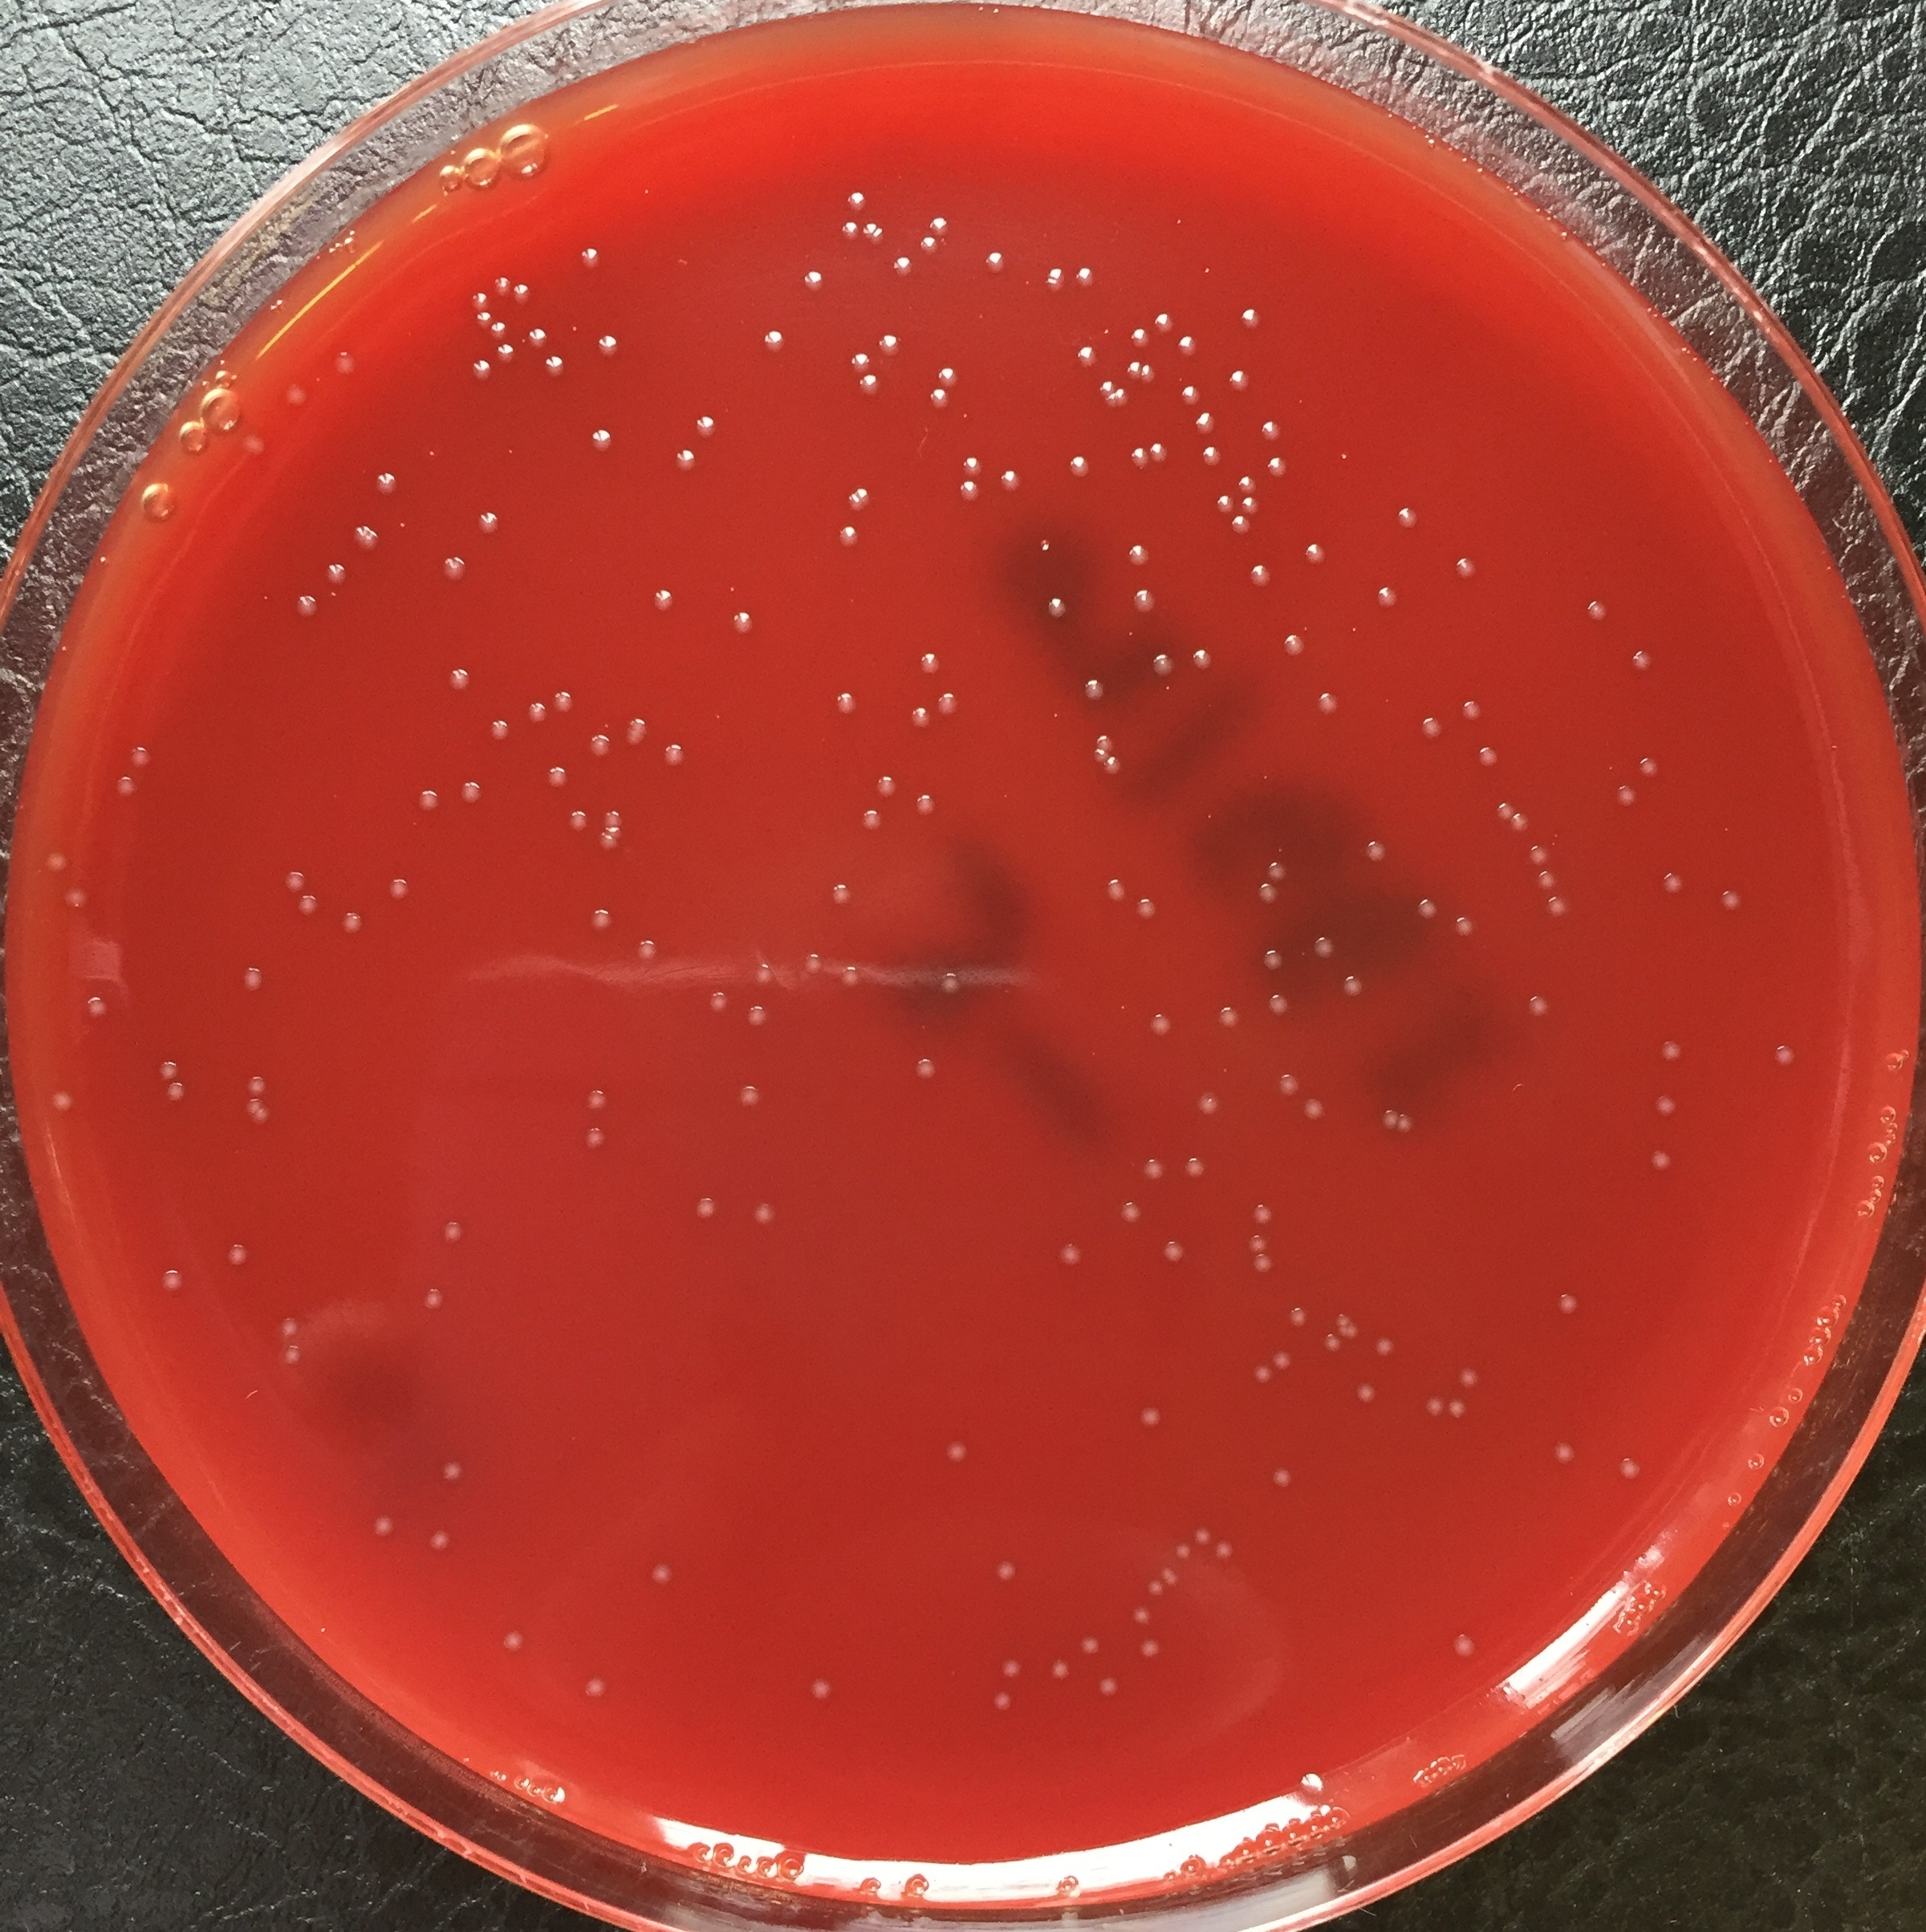sp10: (1610, 1447, 1668, 1495), (1542, 1431, 1586, 1475), (1048, 1230, 1088, 1276), (929, 961, 965, 1012), (755, 319, 797, 361), (573, 1081, 617, 1121), (1136, 1005, 1180, 1045), (429, 1216, 476, 1253), (646, 1555, 683, 1601), (806, 1666, 841, 1713), (1571, 594, 1612, 635), (986, 1548, 1025, 1590), (1386, 499, 1429, 538), (898, 1054, 942, 1091), (1127, 1400, 1164, 1444), (1360, 832, 1397, 876), (1437, 1627, 1482, 1664), (152, 1262, 190, 1303), (646, 582, 683, 622), (432, 1451, 469, 1491), (1076, 672, 1111, 714), (1116, 1190, 1150, 1234), (1621, 643, 1658, 682), (494, 1618, 527, 1661), (1642, 1144, 1676, 1186), (1550, 1280, 1584, 1322), (750, 1199, 781, 1243), (577, 1668, 614, 1705), (367, 465, 406, 501), (279, 377, 314, 414), (1125, 583, 1162, 619), (439, 661, 474, 698), (35, 844, 72, 880), (367, 1511, 402, 1548), (580, 1126, 616, 1163), (220, 1239, 259, 1273), (1153, 1232, 1187, 1271), (1300, 1095, 1333, 1133), (1633, 746, 1667, 784), (333, 342, 365, 383), (621, 712, 653, 753), (418, 1527, 459, 1558), (797, 263, 832, 298), (1347, 1378, 1383, 1414), (1270, 1068, 1307, 1102), (1769, 1040, 1803, 1077), (109, 772, 148, 804), (411, 784, 443, 823), (1041, 589, 1071, 629), (1245, 557, 1273, 599), (1275, 628, 1310, 661), (686, 1192, 720, 1227), (466, 356, 497, 393), (1116, 539, 1153, 571), (820, 880, 857, 911), (1134, 1156, 1171, 1188), (1450, 554, 1482, 591), (122, 740, 161, 770), (727, 603, 760, 636), (483, 714, 515, 749), (728, 1079, 764, 1111), (1243, 1197, 1275, 1232), (1208, 1001, 1243, 1033), (1192, 1086, 1224, 1121), (1649, 1091, 1684, 1123), (1369, 585, 1406, 615), (1524, 985, 1554, 1022), (332, 906, 370, 934), (836, 957, 864, 996), (471, 506, 503, 539), (829, 689, 862, 721), (550, 687, 584, 719), (381, 876, 414, 908), (628, 933, 660, 966), (439, 555, 469, 591), (668, 441, 698, 476), (977, 245, 1007, 280), (1235, 301, 1270, 331), (452, 777, 487, 807), (81, 992, 111, 1028), (843, 487, 880, 515), (908, 790, 937, 827), (46, 1086, 76, 1119), (1245, 1248, 1279, 1278), (1538, 890, 1568, 924), (1654, 1035, 1688, 1065), (832, 522, 861, 557), (418, 1278, 446, 1313), (988, 1683, 1016, 1719), (1411, 895, 1439, 931), (1714, 885, 1743, 920), (240, 964, 266, 1001), (1072, 256, 1097, 294), (1212, 1528, 1236, 1567), (240, 434, 272, 464), (691, 412, 723, 442), (1069, 338, 1099, 370), (935, 689, 965, 721), (656, 742, 688, 772), (291, 890, 323, 920), (1302, 534, 1332, 566), (938, 1435, 970, 1465), (1265, 987, 1295, 1019), (1309, 689, 1337, 723), (596, 328, 623, 363), (353, 524, 379, 559), (915, 645, 942, 680), (1189, 642, 1215, 677), (1453, 1364, 1489, 1391), (997, 465, 1021, 502), (1102, 876, 1127, 913), (524, 324, 554, 354), (797, 947, 827, 977), (1094, 1673, 1124, 1703), (1309, 931, 1339, 961), (1337, 971, 1367, 1001), (293, 594, 321, 626), (1062, 450, 1090, 481), (1252, 420, 1284, 448), (1148, 649, 1176, 680), (748, 955, 776, 987), (1178, 1155, 1206, 1186), (60, 888, 93, 915), (1266, 850, 1293, 883), (1138, 1636, 1164, 1669), (1473, 739, 1499, 772), (910, 702, 935, 737), (1422, 1384, 1445, 1421), (587, 427, 616, 457), (926, 384, 954, 414), (561, 807, 589, 837), (1046, 1655, 1074, 1685), (1413, 712, 1443, 740), (1610, 781, 1639, 811), (1374, 1331, 1400, 1363), (1079, 1627, 1104, 1661), (1459, 695, 1483, 728), (952, 479, 982, 506), (859, 804, 885, 834), (1252, 883, 1282, 910), (741, 999, 767, 1029), (1295, 1772, 1325, 1798), (1660, 867, 1686, 897), (541, 353, 566, 384), (272, 866, 303, 890), (873, 772, 898, 804), (1226, 367, 1254, 393), (1265, 453, 1291, 481), (526, 700, 552, 728), (1524, 841, 1552, 867), (577, 247, 607, 271), (1194, 442, 1224, 467), (541, 765, 571, 790), (586, 906, 616, 931), (152, 1056, 182, 1081), (1249, 1359, 1273, 1389), (1226, 515, 1258, 538), (1134, 894, 1157, 925), (321, 564, 347, 591), (877, 333, 903, 360), (843, 189, 870, 215), (587, 733, 614, 760), (275, 1313, 302, 1340), (1259, 948, 1286, 975), (1176, 379, 1201, 407), (1192, 411, 1217, 439), (277, 1341, 302, 1370), (705, 984, 730, 1012), (1286, 1303, 1310, 1331), (243, 1074, 273, 1096), (1242, 1232, 1272, 1255), (928, 212, 952, 238), (1212, 490, 1236, 516), (164, 1082, 189, 1109), (1145, 1578, 1169, 1604), (494, 342, 517, 370), (919, 234, 942, 263), (956, 457, 984, 479), (1268, 1461, 1291, 1490), (892, 252, 914, 282), (1448, 1393, 1467, 1424), (857, 370, 882, 395), (1175, 335, 1199, 360), (1171, 1539, 1194, 1565), (1376, 1105, 1399, 1132), (1127, 446, 1148, 474), (593, 834, 621, 855), (492, 270, 511, 300), (1531, 869, 1561, 888), (937, 363, 961, 386), (1235, 472, 1259, 495), (492, 319, 513, 346), (847, 353, 873, 374), (1146, 439, 1168, 465), (1492, 797, 1513, 823), (1044, 266, 1064, 294), (1192, 1521, 1212, 1549), (254, 1105, 272, 1135), (1127, 324, 1148, 349), (1240, 495, 1265, 516), (1273, 1349, 1295, 1373), (997, 1655, 1021, 1676), (1141, 363, 1161, 390), (838, 219, 859, 241), (1153, 312, 1175, 335), (1115, 384, 1136, 407), (1129, 1604, 1152, 1625), (1397, 1111, 1418, 1133), (1124, 358, 1143, 383), (511, 282, 531, 305), (1453, 913, 1473, 936), (603, 806, 628, 823), (1106, 754, 1124, 779), (469, 291, 490, 310), (1090, 746, 1109, 767), (242, 1096, 261, 1118), (1319, 1331, 1339, 1352), (603, 821, 628, 837), (871, 226, 891, 245), (474, 312, 492, 333), (1095, 379, 1113, 400), (1513, 809, 1529, 832), (1106, 391, 1122, 412), (1092, 733, 1111, 749), (1159, 1562, 1175, 1579), (1333, 1310, 1351, 1326), (1346, 1324, 1362, 1341), (862, 222, 875, 241), (1169, 1578, 1180, 1590), (1335, 1327, 1347, 1338)
